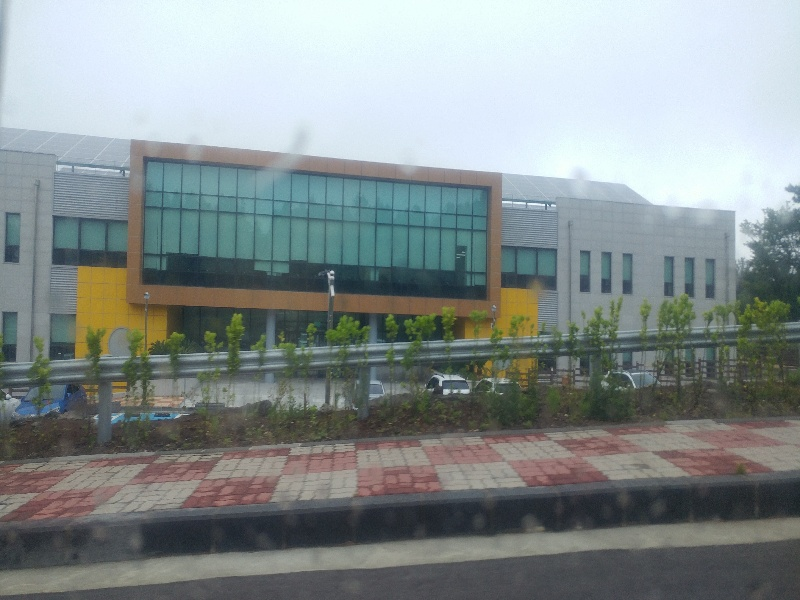Digital Library: (2, 163, 755, 346)
